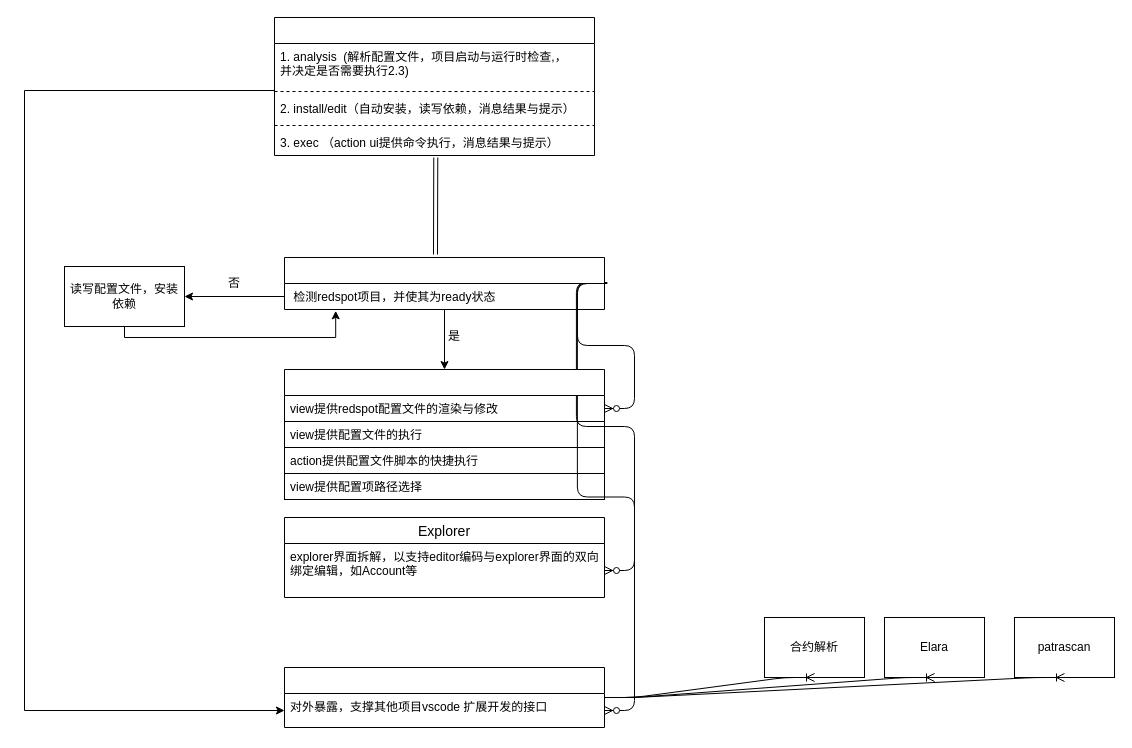
The diagram is 1132 pixels wide and 748 high, and some of its shapes have lost their labels. Each missing label, with the box of its shape:
Carpo Ext Core: (274, 16, 594, 156)
Exposed Interface: (284, 666, 604, 728)
Settings: (284, 368, 604, 500)
开发流: (284, 256, 604, 310)
